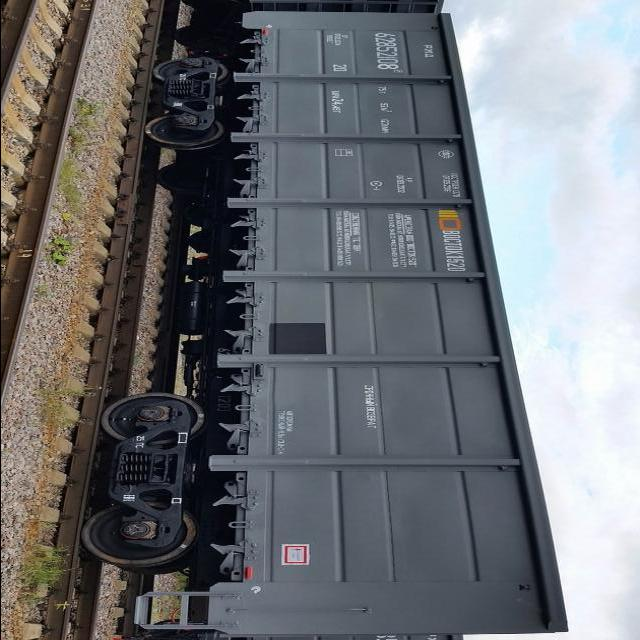wagon: (372, 31, 402, 70)
